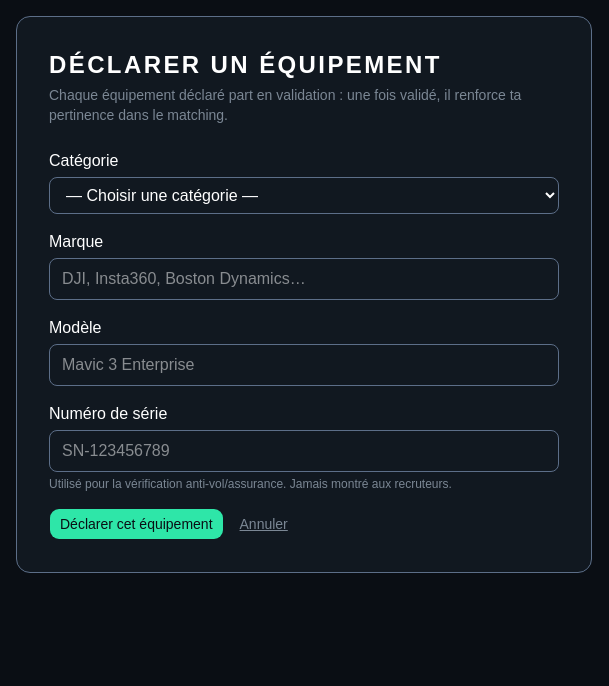
Test case: Page Déclarer un équipement (SH-43) › bloque la soumission côté client quand des champs requis sont vides — SANS appel réseau
The image size is (609, 686).
Click the button "Déclarer cet équipement": (136, 524) [49,508,224,540]
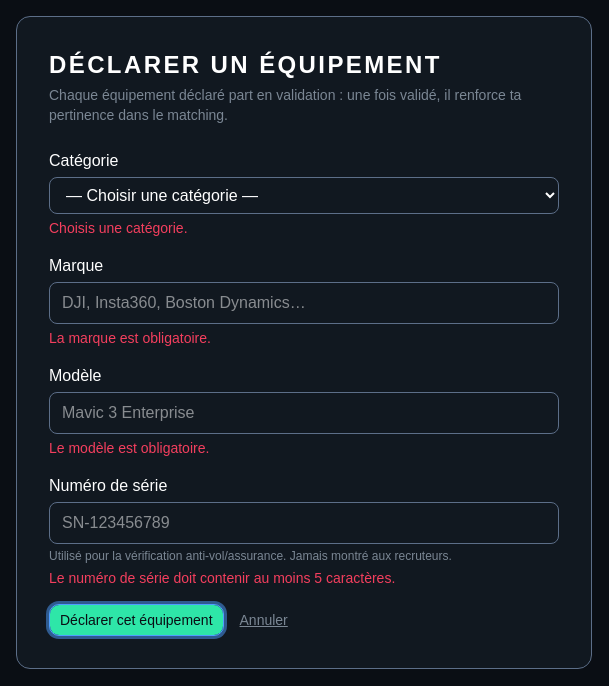
Now the text "Choisis une catégorie." is shown, box [49,220,188,236]
Now the text "La marque est obligatoire." is shown, box [49,330,211,346]
Now the text "Le modèle est obligatoire." is shown, box [49,440,209,456]
